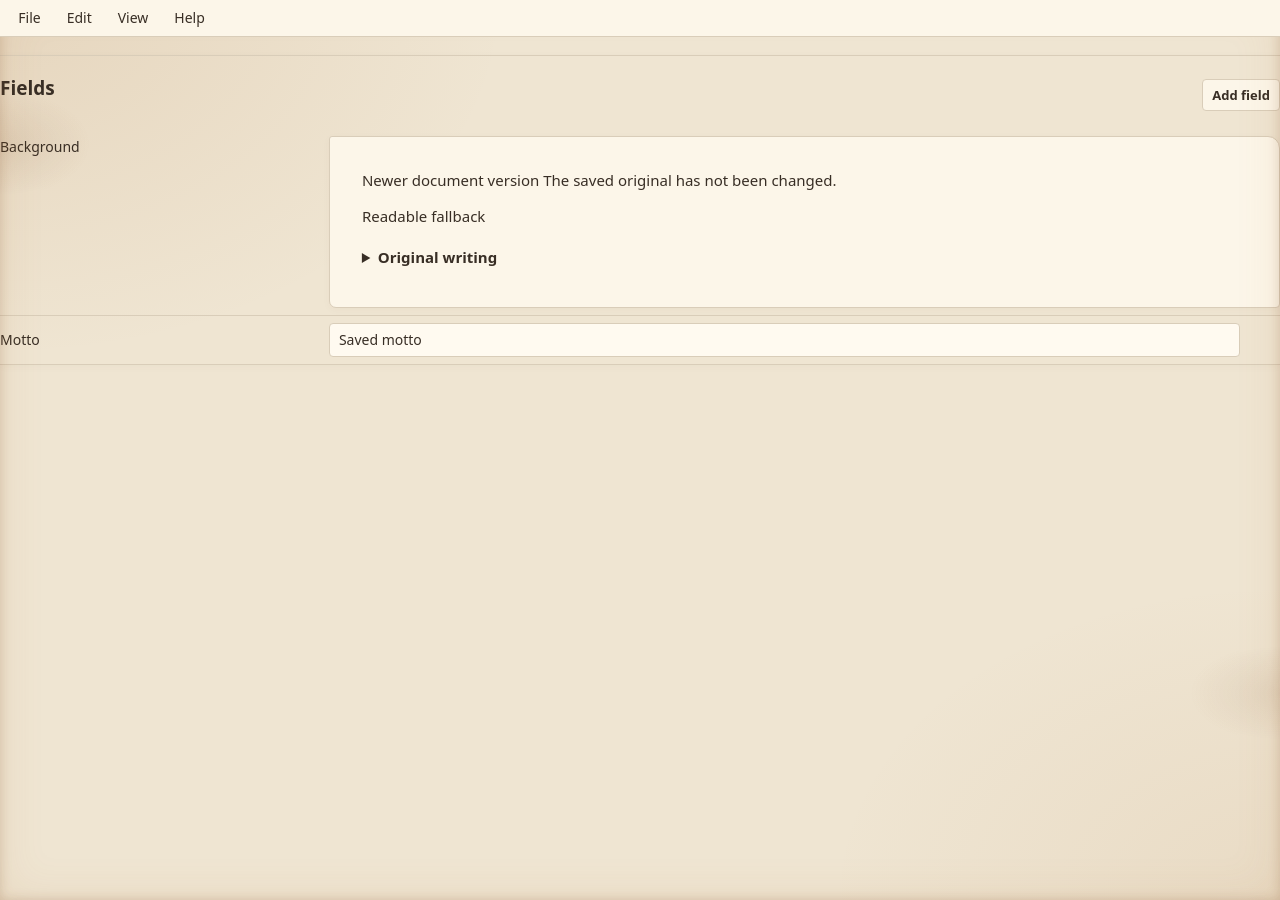
isolates recovery per Field and visibly preserves unsupported writing while allowing Hide
The width and height of the screenshot is (1280, 900).
expect the message shows "Newer document version": met, box x1=362 y1=170 x2=539 y2=190
Step 1. Click the heading "Original writing" → {"x": 438, "y": 257}, box x1=378 y1=247 x2=497 y2=267
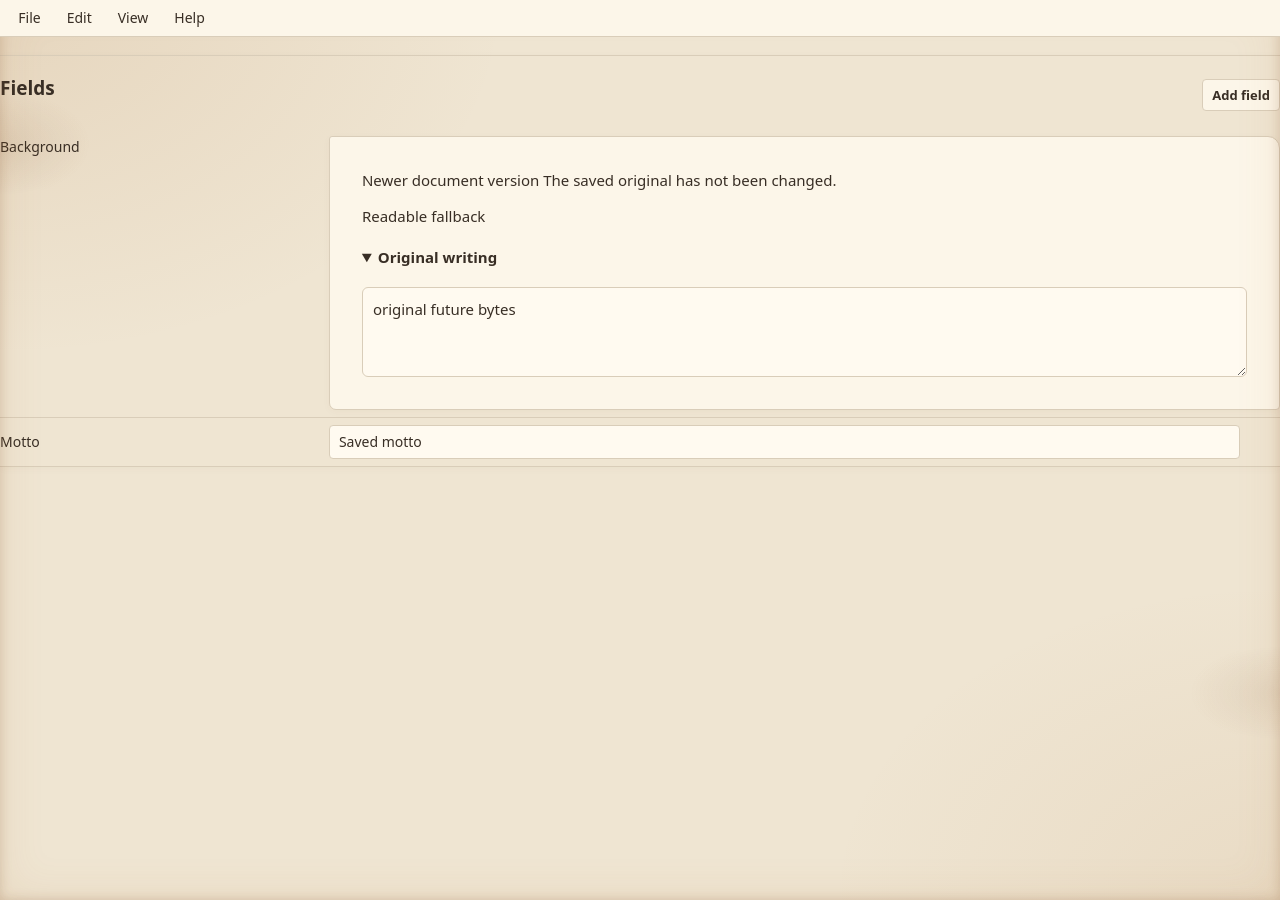
expect the text box named "Original writing data" holds "original future bytes": met, box x1=362 y1=287 x2=1247 y2=377
Step 2. Click the menu item "Edit" → {"x": 79, "y": 18}, box x1=54 y1=3 x2=104 y2=33
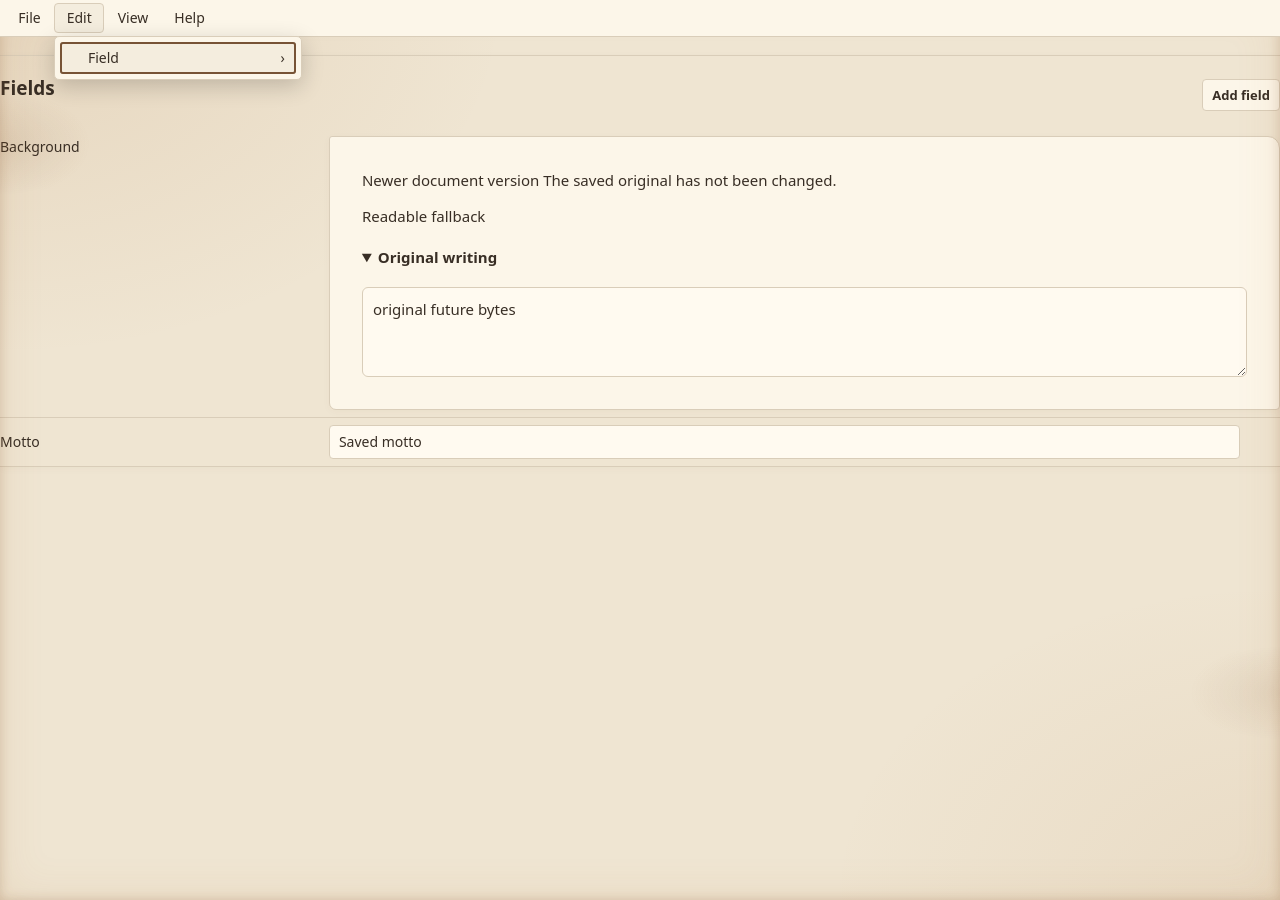
Step 3. Click the menu item "Field ›" → {"x": 178, "y": 58}, box x1=60 y1=42 x2=296 y2=74
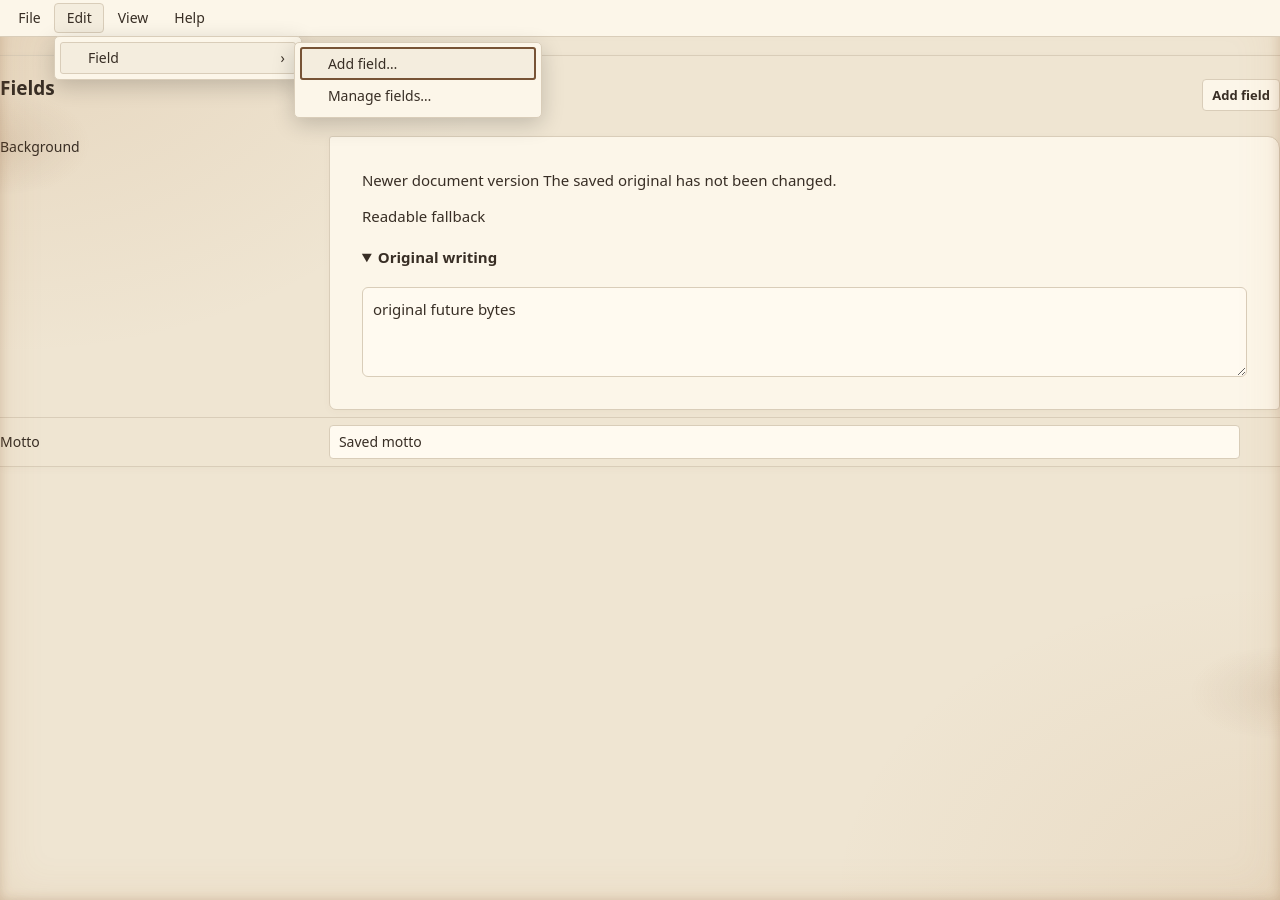
Step 4. Click the menu item "Manage fields…" → {"x": 418, "y": 96}, box x1=300 y1=80 x2=536 y2=112
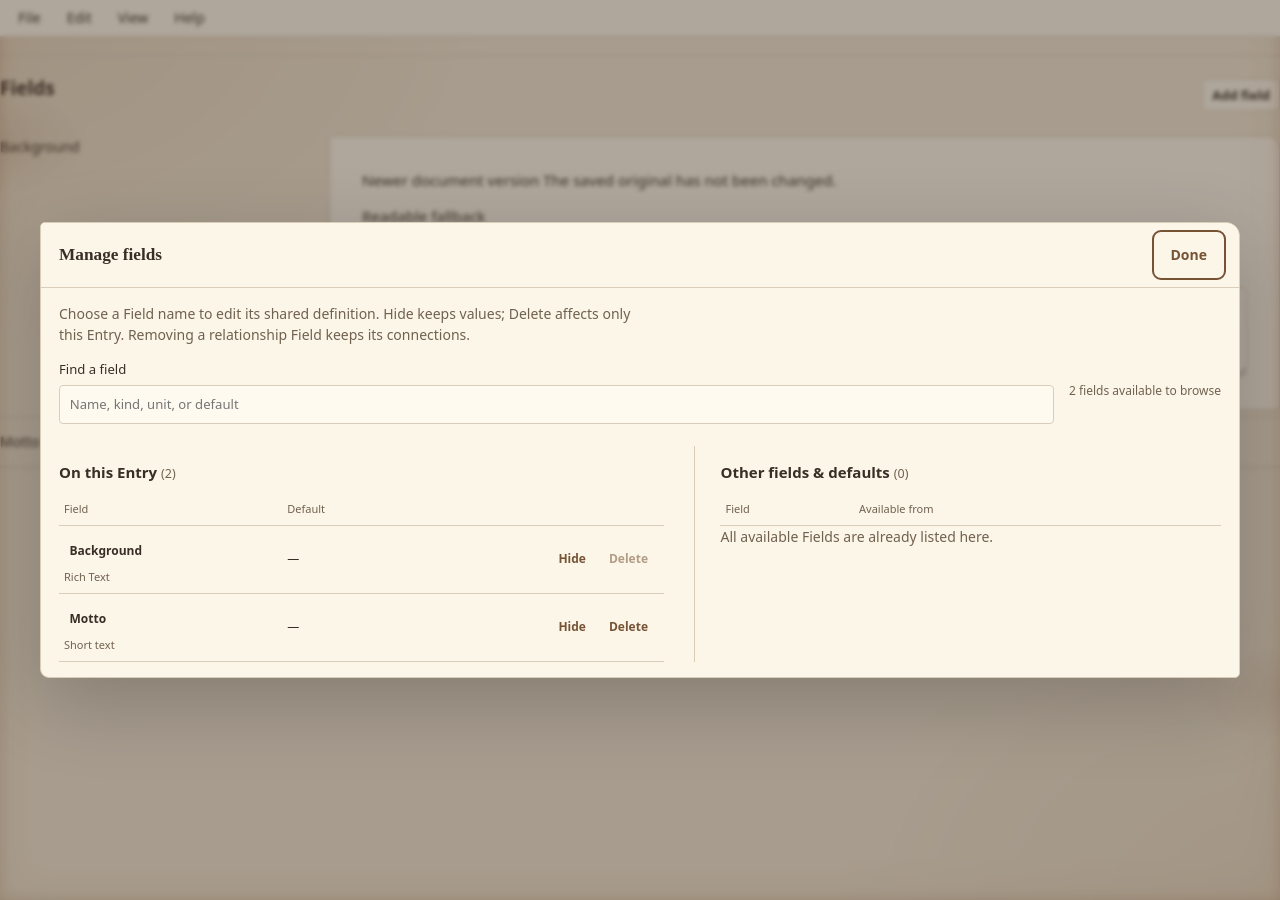
expect the button with aria-label "Delete from Entry: Background" is disabled: met, box x1=598 y1=542 x2=660 y2=576
expect the button with aria-label "Hide field: Background" is enabled: met, box x1=547 y1=542 x2=597 y2=576
